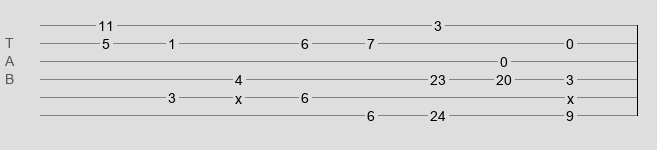0: (500, 54, 508, 64), (566, 36, 574, 46)
1: (168, 36, 176, 46)
11: (98, 18, 114, 28)
20: (496, 72, 512, 82)
23: (430, 72, 446, 82)
24: (430, 108, 446, 118)
3: (168, 90, 176, 100), (434, 18, 442, 28), (566, 72, 574, 82)
4: (235, 72, 243, 82)
5: (102, 36, 110, 46)
6: (301, 90, 309, 100), (301, 36, 309, 46), (367, 108, 375, 118)
7: (367, 36, 375, 46)
9: (566, 108, 574, 118)
x: (235, 91, 242, 99), (567, 91, 574, 99)
